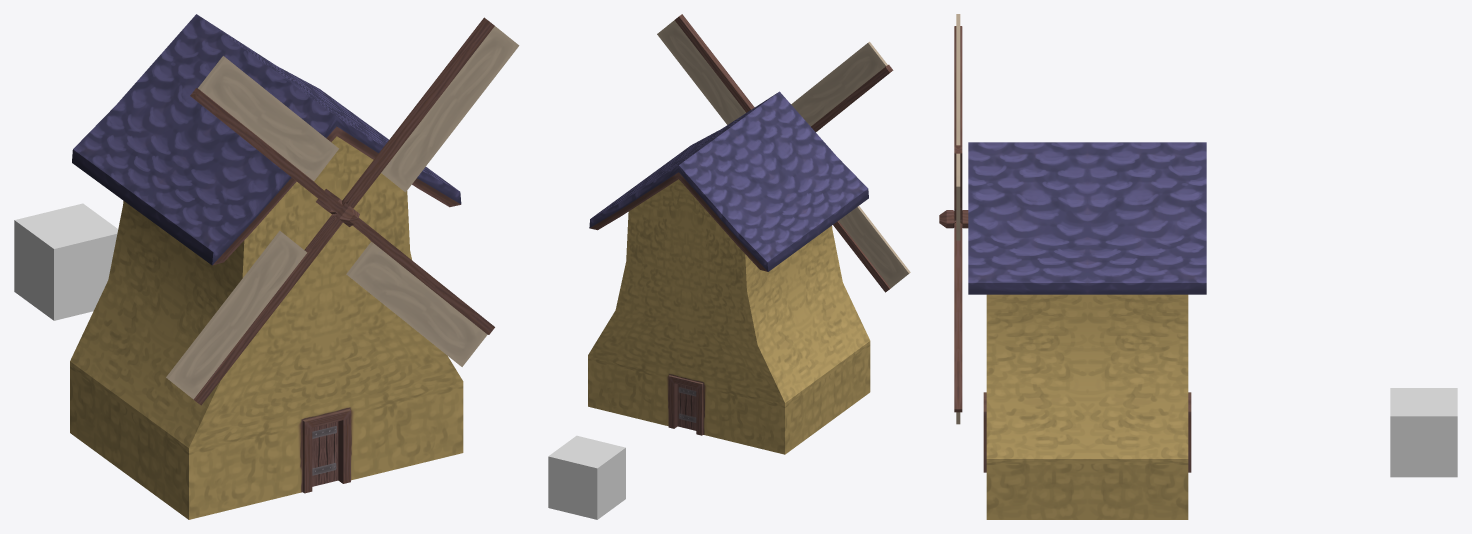
The model's file is Windmill.glb.
3 views of the same model, side by side, from view 1: azimuth 30°, elevation 25°; view 2: azimuth 150°, elevation 25°; view 3: azimuth 270°, elevation 25° (orthographic). The views are drawn at different scales.
Visible parts, largest first — view 1: Windmill, Windmill_Blades, Cube-noimp; view 2: Windmill, Windmill_Blades, Cube-noimp; view 3: Windmill, Cube-noimp, Windmill_Blades.
Boxes of the visible parts, x1,y1,x2,y2 form: Windmill: (70,14,463,519); Windmill_Blades: (166,17,519,405); Cube-noimp: (14,203,118,320); Windmill: (588,91,870,454); Windmill_Blades: (657,14,910,292); Cube-noimp: (548,435,625,519); Windmill: (968,142,1206,519); Cube-noimp: (1390,388,1457,477); Windmill_Blades: (939,14,968,424).
Size of the model in its own units: 5.12 by 6.56 by 7.7.
Materials: 1 (1 with a texture image).
